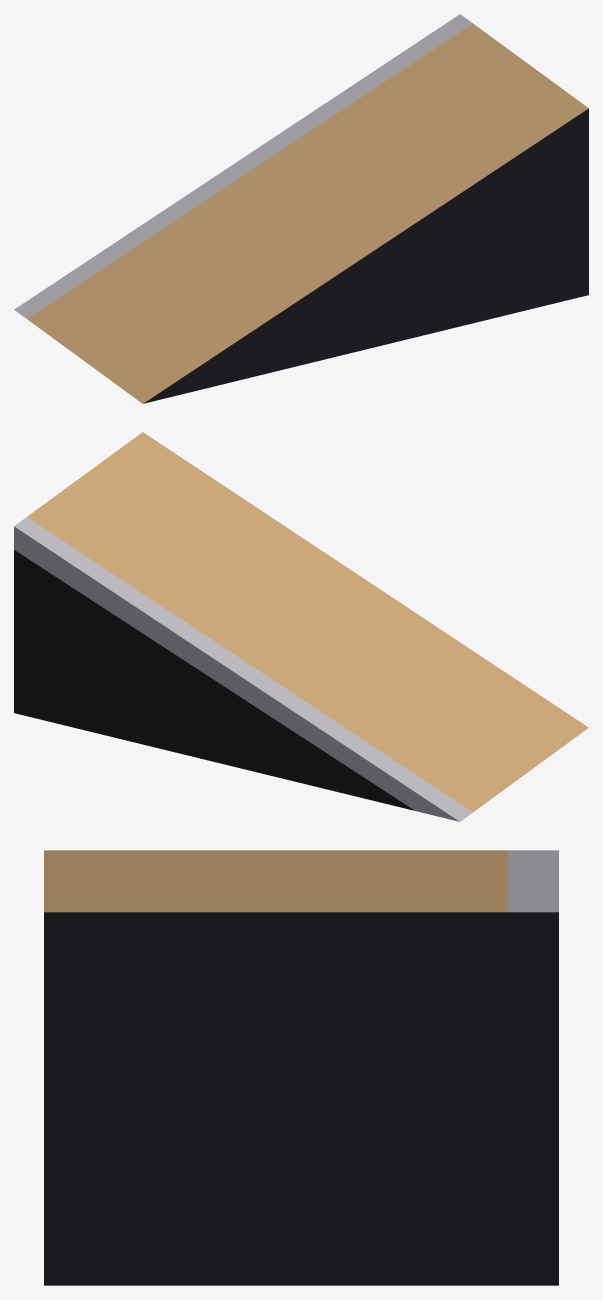
Rendered from Ramp_Half_4_Left.fbx.
3 renders of one model, top to bottom at view 1: azimuth 30°, elevation 25°; view 2: azimuth 150°, elevation 25°; view 3: azimuth 270°, elevation 25°, orthographic. The views are drawn at different scales.
Parts seen in each view (by area): view 1: Ramp_Half_4_Left; view 2: Ramp_Half_4_Left; view 3: Ramp_Half_4_Left.
Part boxes in pixels (box(x1,y1,x2,y2)): Ramp_Half_4_Left: box(14, 14, 588, 403); Ramp_Half_4_Left: box(14, 432, 588, 821); Ramp_Half_4_Left: box(44, 850, 558, 1285).
Size of the model in its own units: 10 by 4 by 5.
